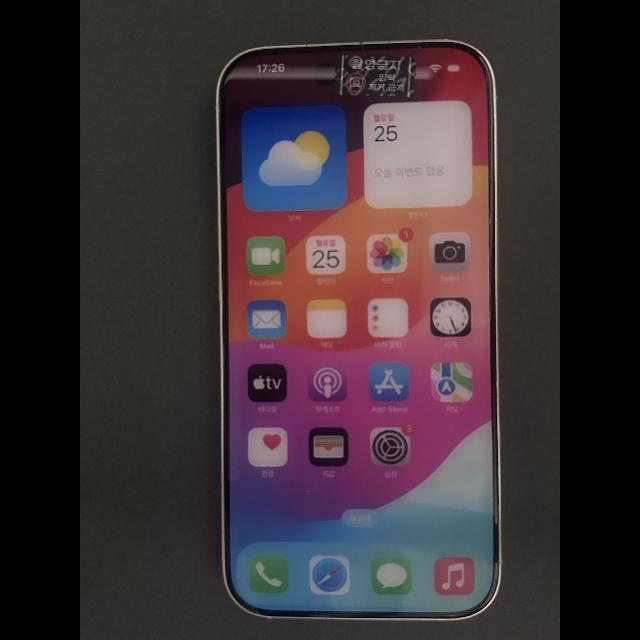phone: (216, 40, 500, 619)
sticker: (333, 55, 417, 97)
